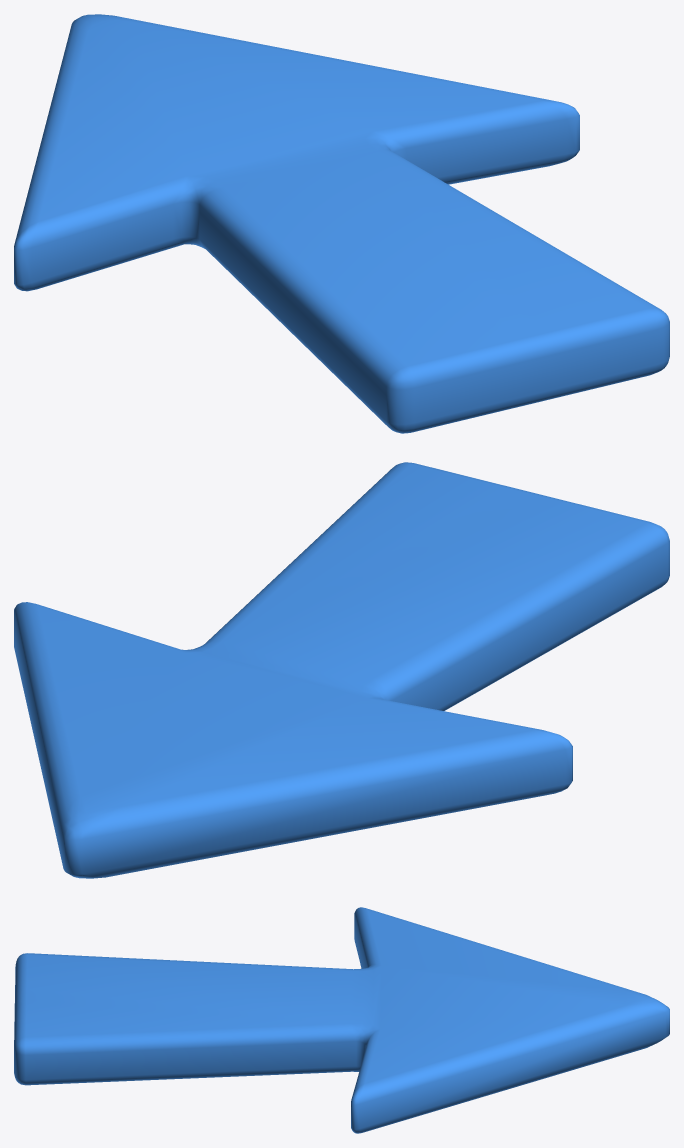
Rendered from direction_arrow4.glb.
3 views of the same model, one above another, from view 1: azimuth 30°, elevation 25°; view 2: azimuth 150°, elevation 25°; view 3: azimuth 270°, elevation 25° (orthographic). The views are drawn at different scales.
Parts seen in each view (by area): view 1: Arrow_Material.001_0.001; view 2: Arrow_Material.001_0.001; view 3: Arrow_Material.001_0.001.
Part boxes in pixels (x1=…): Arrow_Material.001_0.001: x1=14, y1=14, x2=669, y2=433; Arrow_Material.001_0.001: x1=14, y1=462, x2=669, y2=878; Arrow_Material.001_0.001: x1=14, y1=907, x2=669, y2=1133.
Size of the model in its own units: 2.11 by 0.236 by 3.01.
